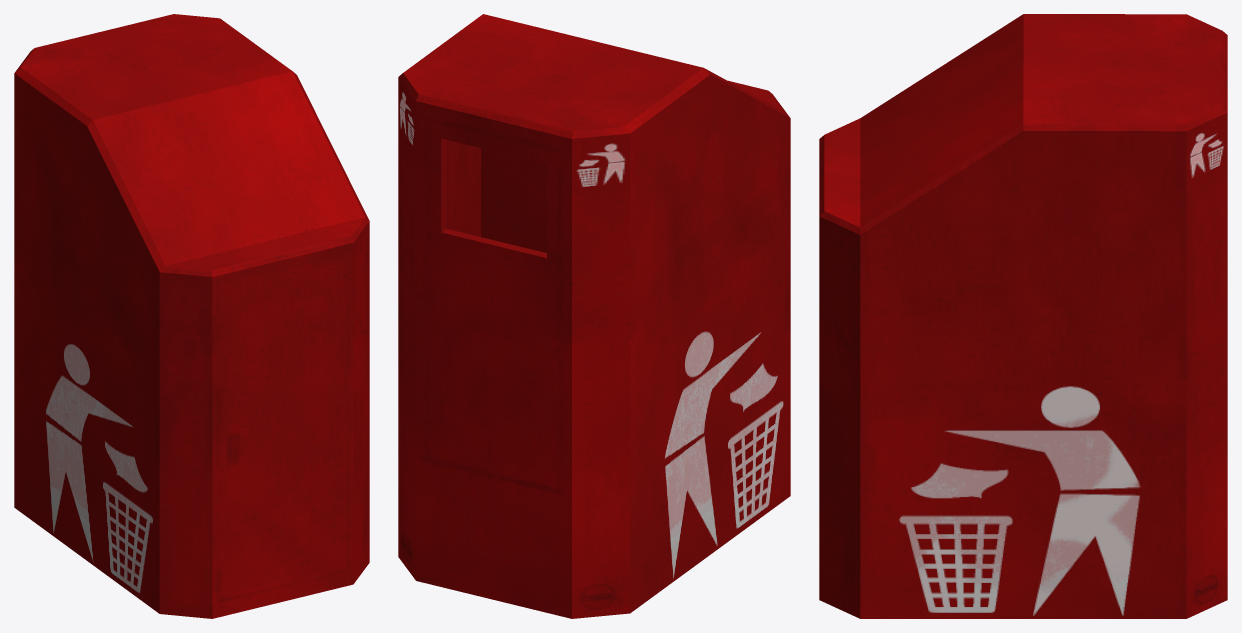
The model's file is rubbishBin_Rubbish.fbx.
3 views of the same model, side by side, from view 1: azimuth 30°, elevation 25°; view 2: azimuth 150°, elevation 25°; view 3: azimuth 270°, elevation 25° (orthographic). The views are drawn at different scales.
Parts seen in each view (by area): view 1: rubbishBin; view 2: rubbishBin; view 3: rubbishBin.
Part boxes in pixels (bbox=[...]): rubbishBin: bbox=[14, 14, 369, 618]; rubbishBin: bbox=[398, 14, 790, 618]; rubbishBin: bbox=[819, 14, 1227, 618].
Size of the model in its own units: 0.6 by 1.2 by 0.8999.
1 material, 1 textured.
